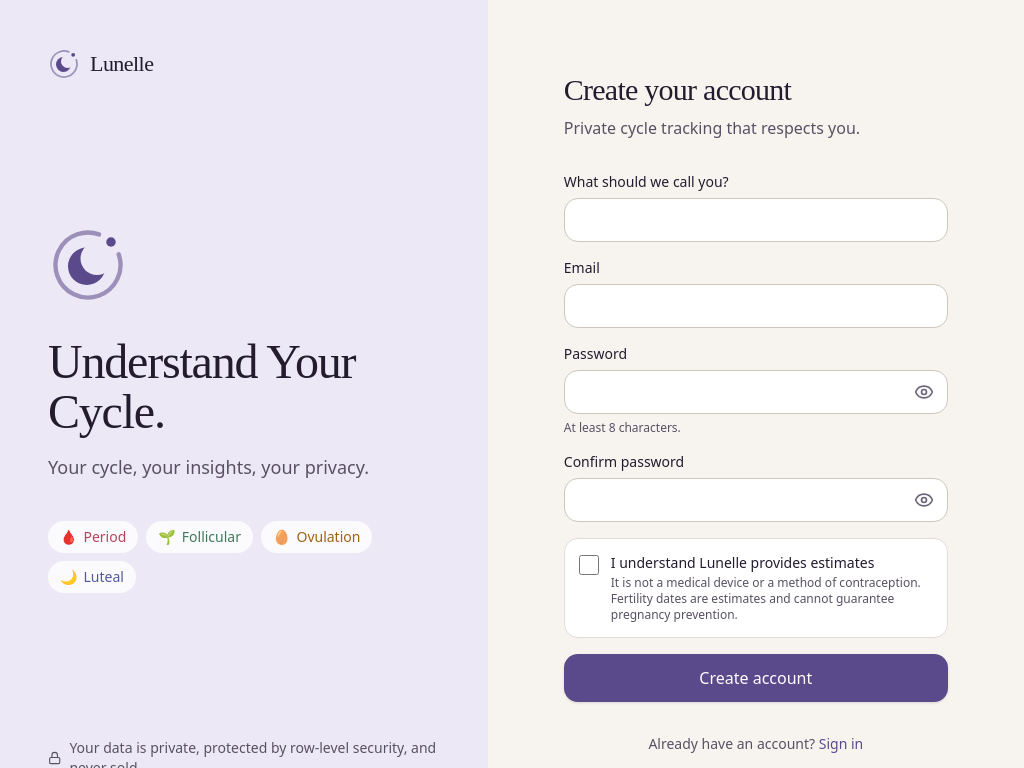
Scenario: sign up › requires matching passwords and the estimates acknowledgement
Type "Sam" into the field labelled "What should we call you?" at (756, 220), box x1=564 y1=198 x2=948 y2=242
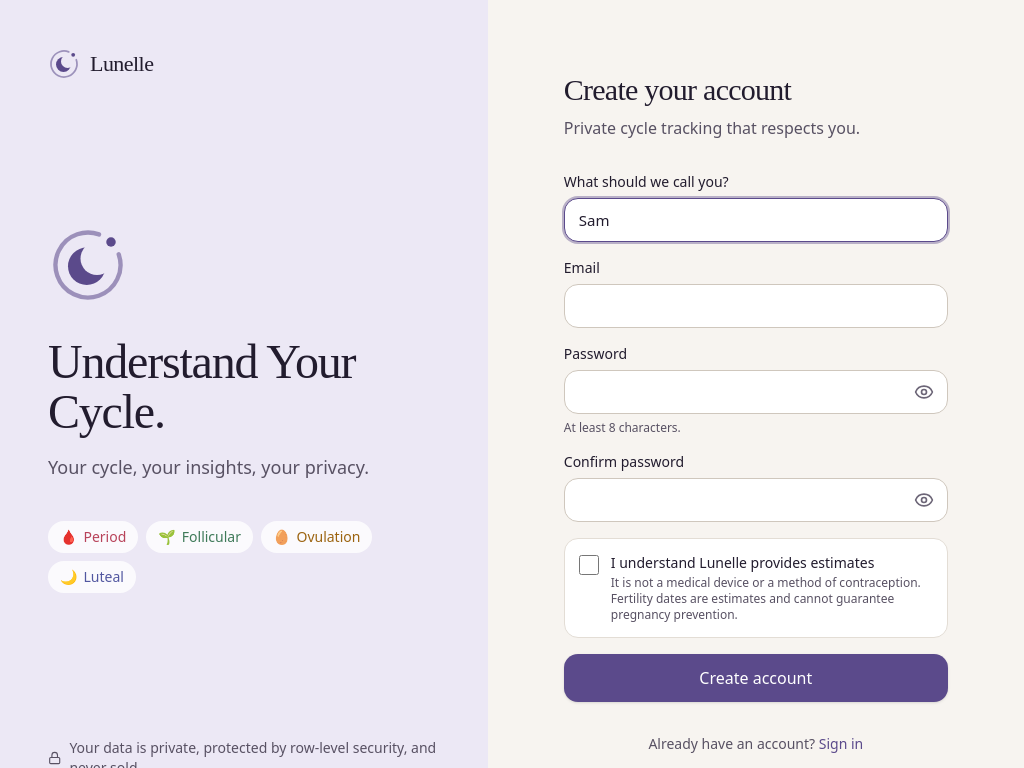
Type "sam@example.com" into the field labelled "Email" at (756, 306), box x1=564 y1=284 x2=948 y2=328
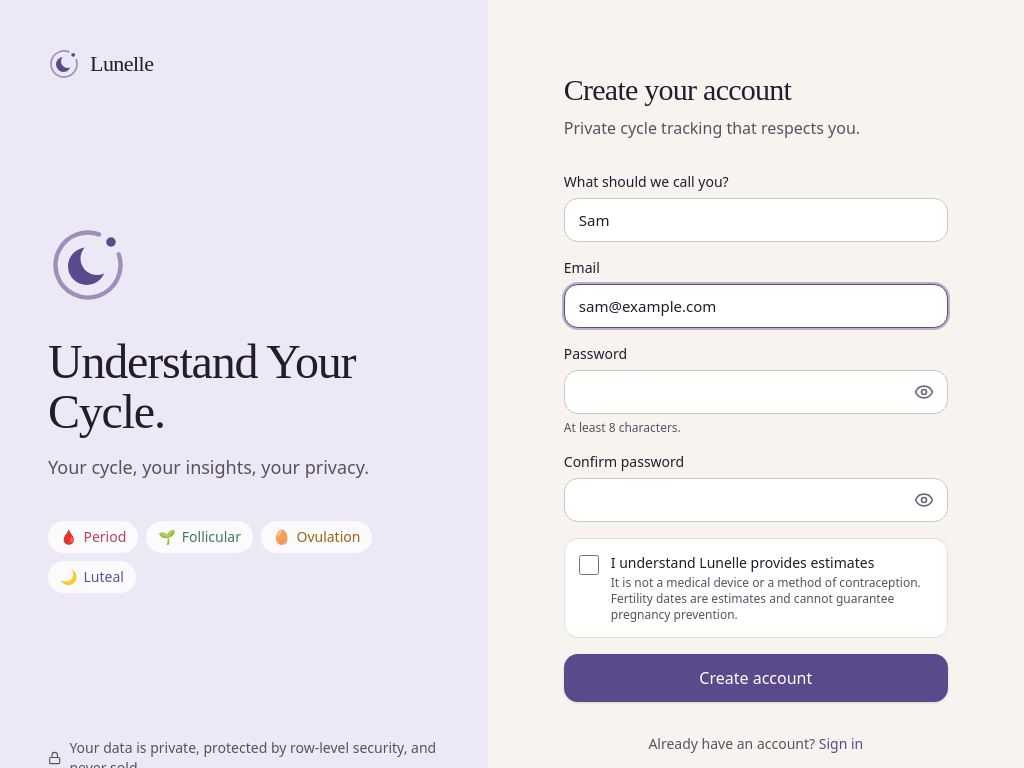
Type "longenough1" into the password field labelled "Password" at (756, 392), box x1=564 y1=370 x2=948 y2=414
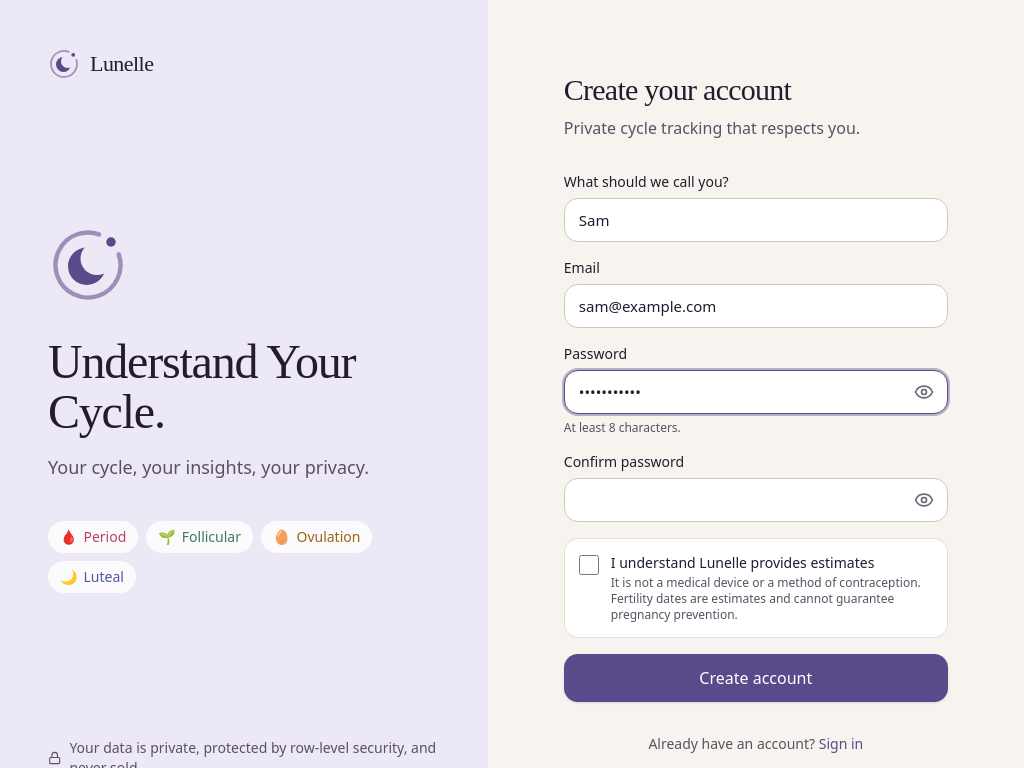
Type "different99" into the password field labelled "Confirm password" at (756, 500), box x1=564 y1=478 x2=948 y2=522
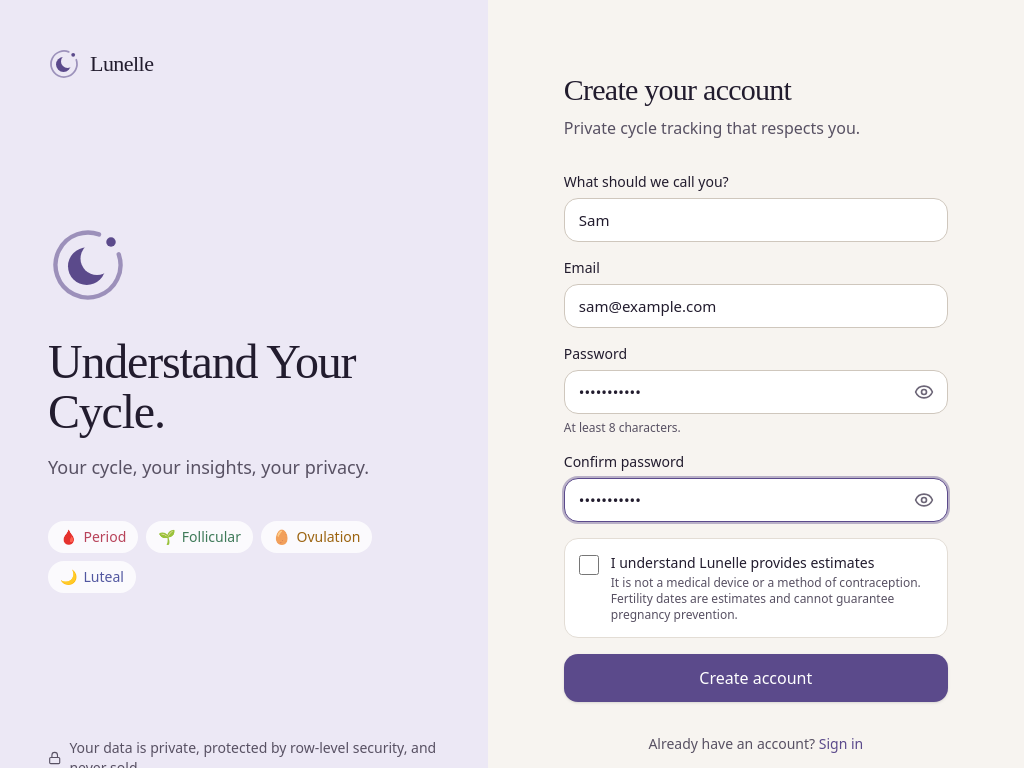
Click the button "Create account" at (756, 678), box x1=564 y1=654 x2=948 y2=702
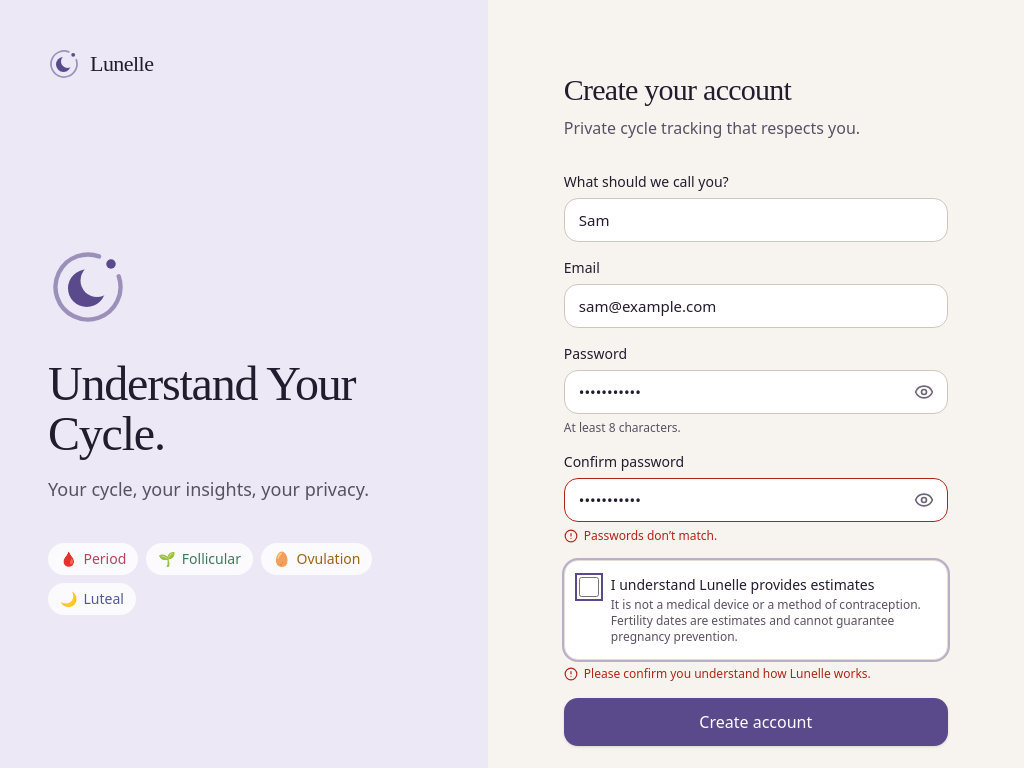
Expected: the text "Passwords don’t match." is shown, x1=564 y1=527 x2=717 y2=544
Expected: the text "Please confirm you understand how Lunelle works." is shown, x1=564 y1=665 x2=871 y2=682
